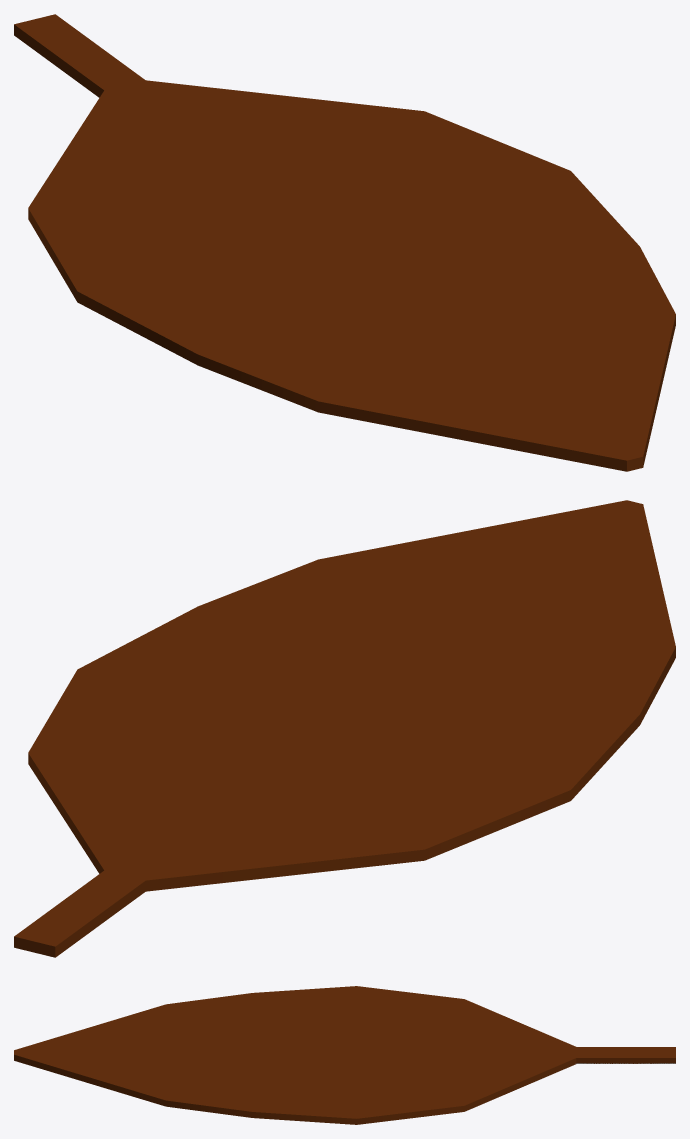
The model's file is Leaf.fbx.
3 views of the same model, one above another, from view 1: azimuth 30°, elevation 25°; view 2: azimuth 150°, elevation 25°; view 3: azimuth 270°, elevation 25° (orthographic). The views are drawn at different scales.
Visible parts, largest first — view 1: pPlane4; view 2: pPlane4; view 3: pPlane4.
Part boxes in pixels (left/top/right/bottom): pPlane4: left=14, top=14, right=675, bottom=471; pPlane4: left=14, top=500, right=675, bottom=957; pPlane4: left=14, top=986, right=675, bottom=1124.
Bounding box in the file's own units: 6.82 × 0.1464 × 14.36.
